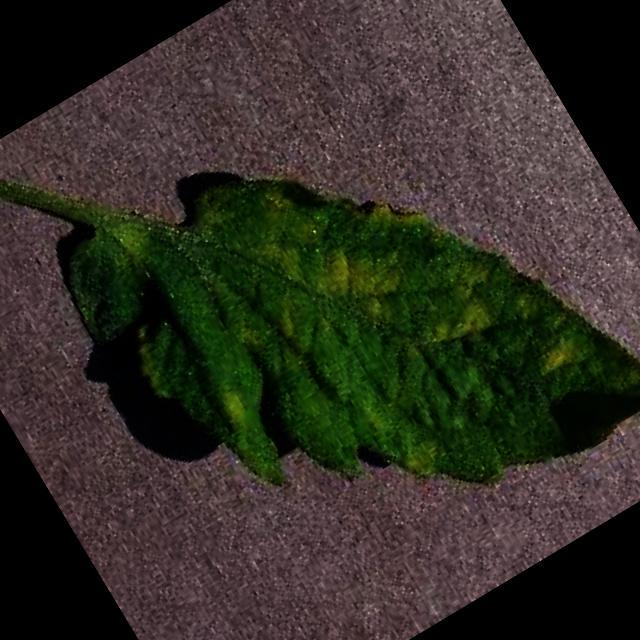Tomato mold leaf: (49, 4, 640, 640)
